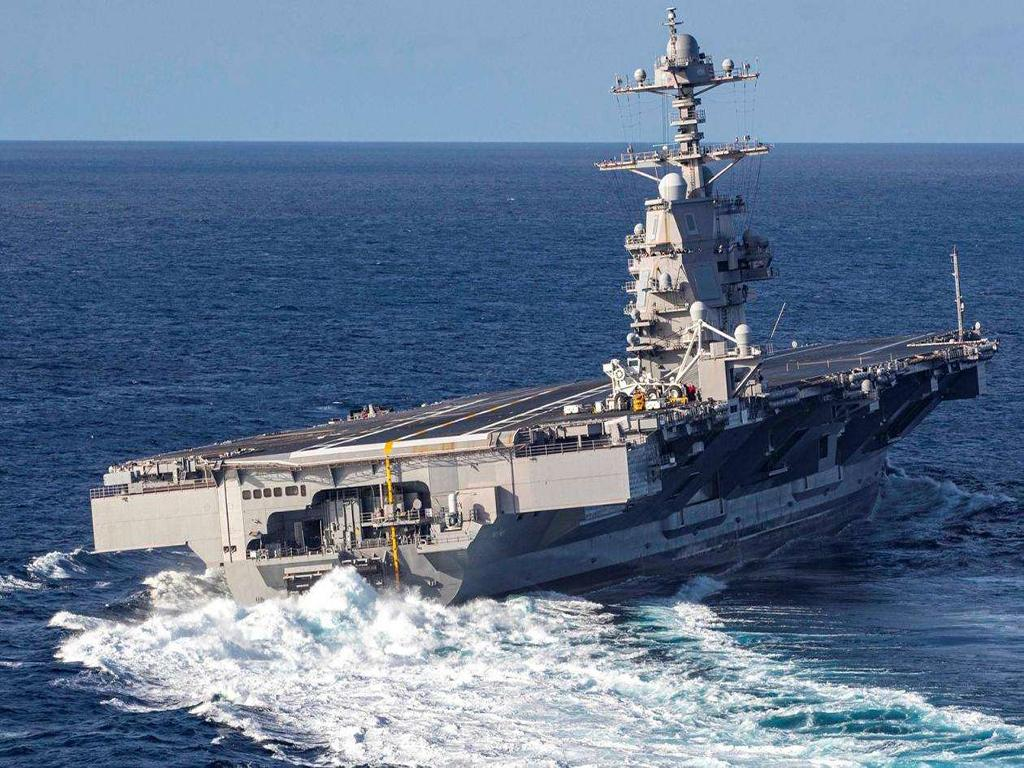Warship: (86, 11, 994, 644)
